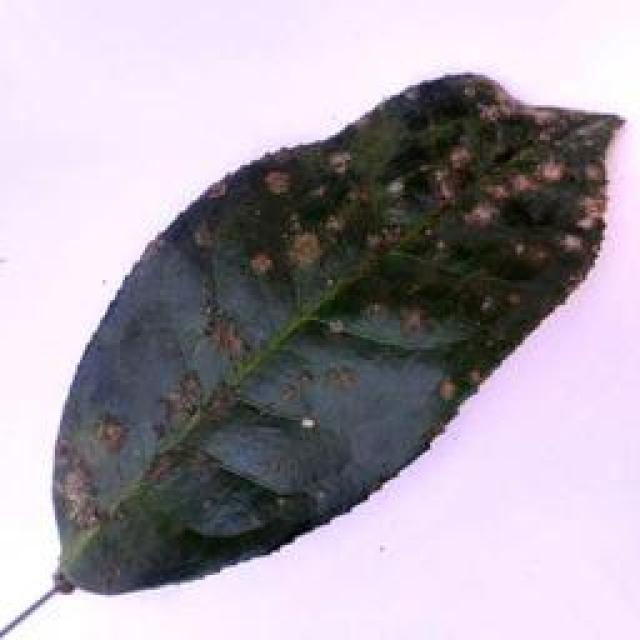Algal Leaf Spot: (41, 76, 639, 594)
